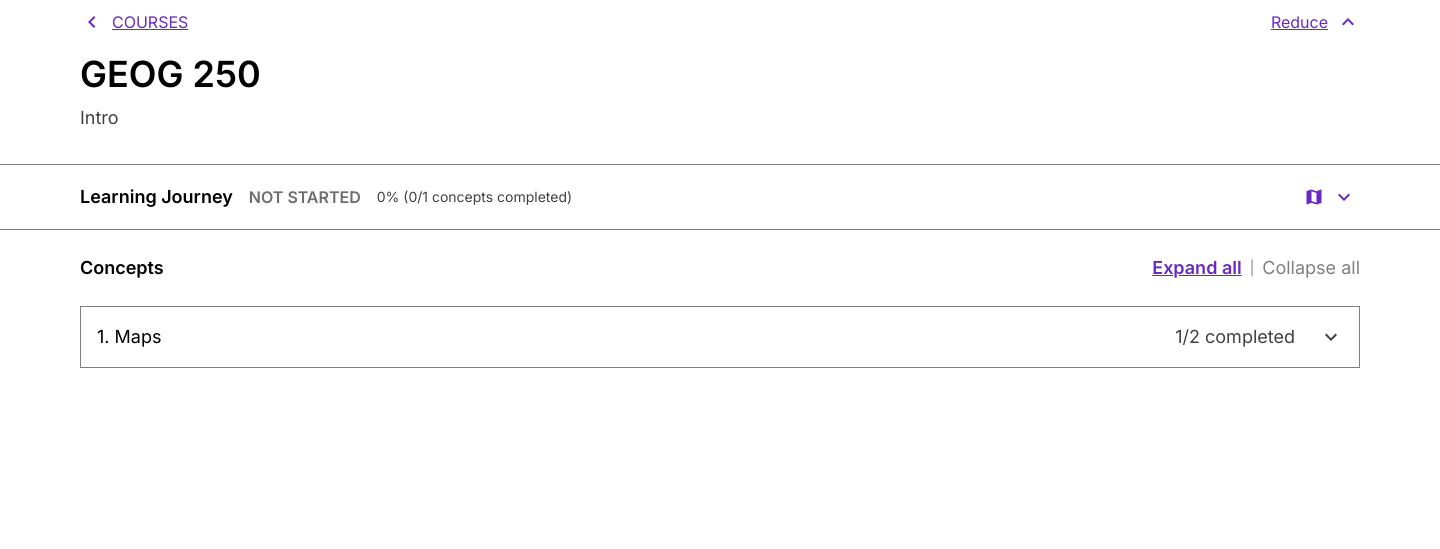
Scenario: CourseView › renders the course title, concept, and module statuses (expanded)
This screenshot has width=1440, height=549.
Expected: the heading "GEOG 250" is shown, [80,60,261,88]
Concepts are collapsed by default — expand them first.
Click the button "Expand all". click: click(1197, 268)
box: [1152,254,1242,282]
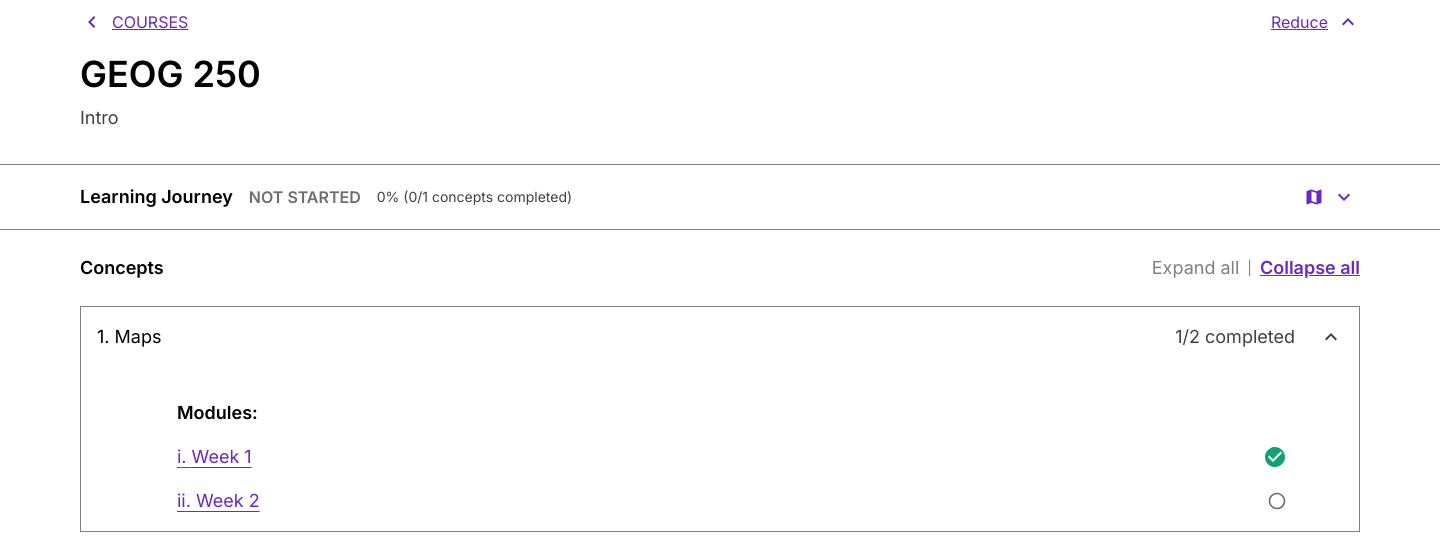
Expected: the link "i. Week 1" is shown, [177,443,252,471]
Expected: the link "ii. Week 2" is shown, [177,487,260,515]
Expected: the picture named "Complete" is shown, [1263,445,1287,469]
